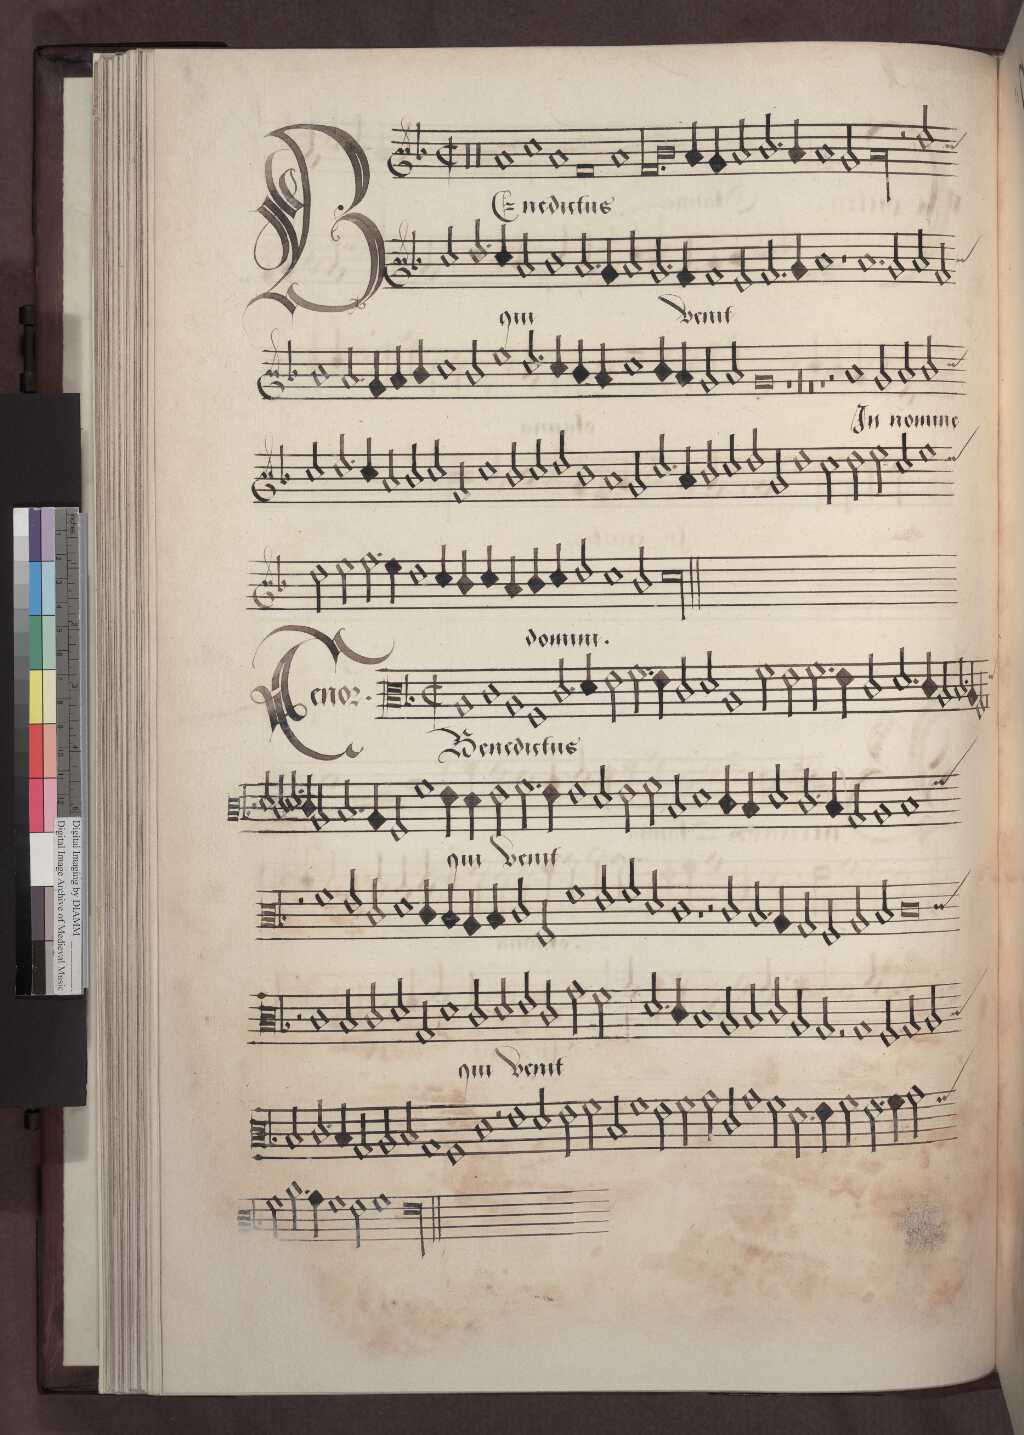custos_7: (955, 243, 984, 271)
flat_7: (408, 226, 427, 280)
g clef_9: (387, 237, 412, 299)
minim_10: (932, 230, 953, 293), (760, 228, 780, 291)
minim_11: (733, 235, 754, 298)
minim_5: (465, 209, 487, 273)
minim_6: (438, 216, 461, 276)
minim_8: (909, 216, 931, 280), (515, 223, 537, 285), (621, 223, 643, 285), (572, 224, 594, 285)
minim_9: (885, 222, 909, 287), (647, 227, 668, 289)
point: (659, 254, 677, 276), (480, 234, 496, 256), (871, 250, 887, 271), (588, 254, 604, 274), (775, 265, 789, 284)
semibreve rest: (837, 224, 851, 290)
semibreve_10: (702, 254, 726, 296)
semibreve_7: (541, 240, 569, 285)
semibreve_8: (854, 242, 879, 281), (813, 240, 836, 281)
semiminim_10: (675, 233, 696, 296)
semiminim_6: (493, 216, 511, 275)
semiminim_9: (600, 230, 619, 291), (790, 226, 809, 289)
